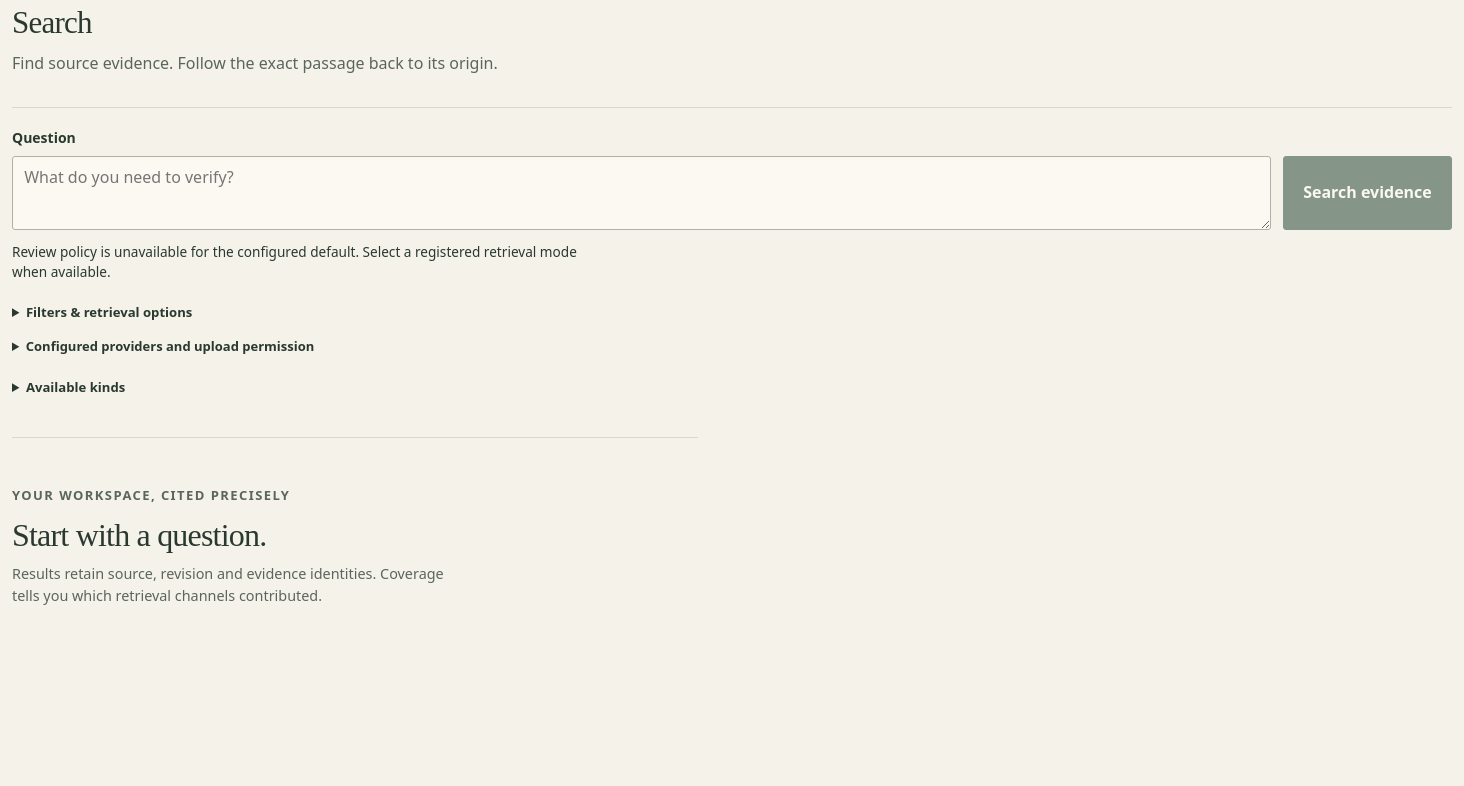
Test: keeps a null window ID null and a structured-only segment selectable
Type "synthetic" into the text box labelled "Question".
click(641, 192); type("synthetic")  # box [12,156,1271,230]
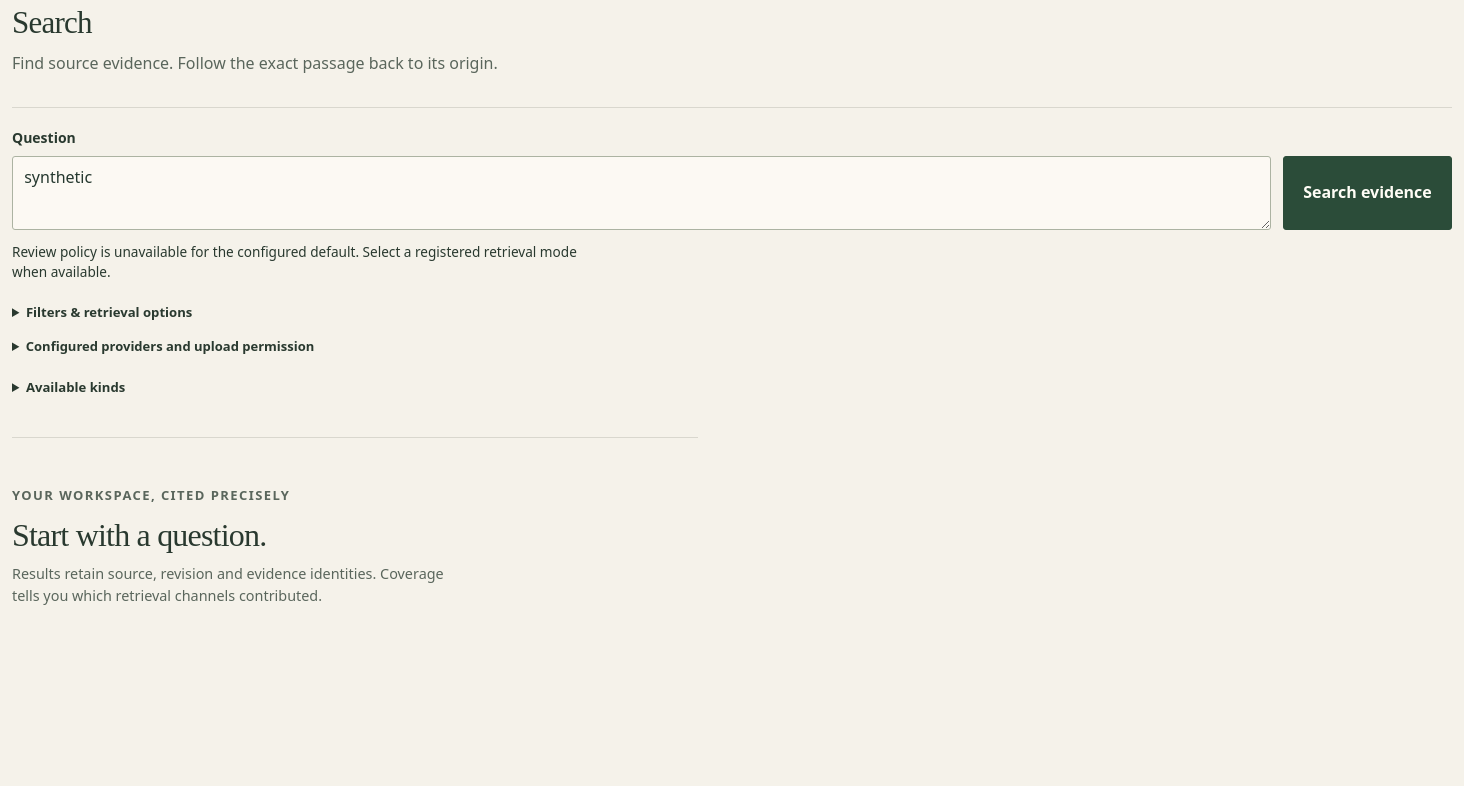
Click the button "Search evidence".
click(1367, 192)  # box [1283,156,1452,230]
(page scrolled)
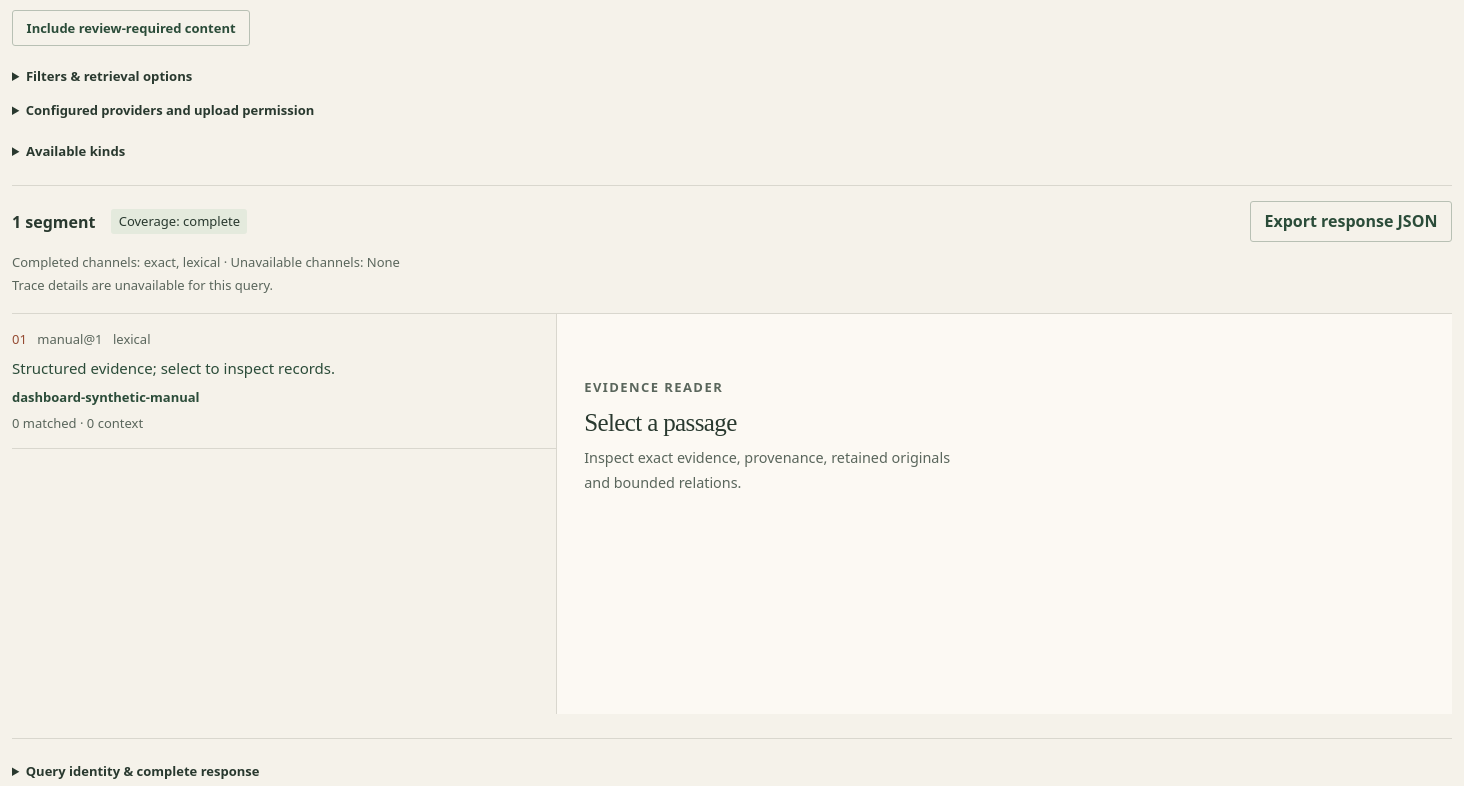
Click the button "Structured evidence".
click(70, 339)  # box [12,314,556,448]
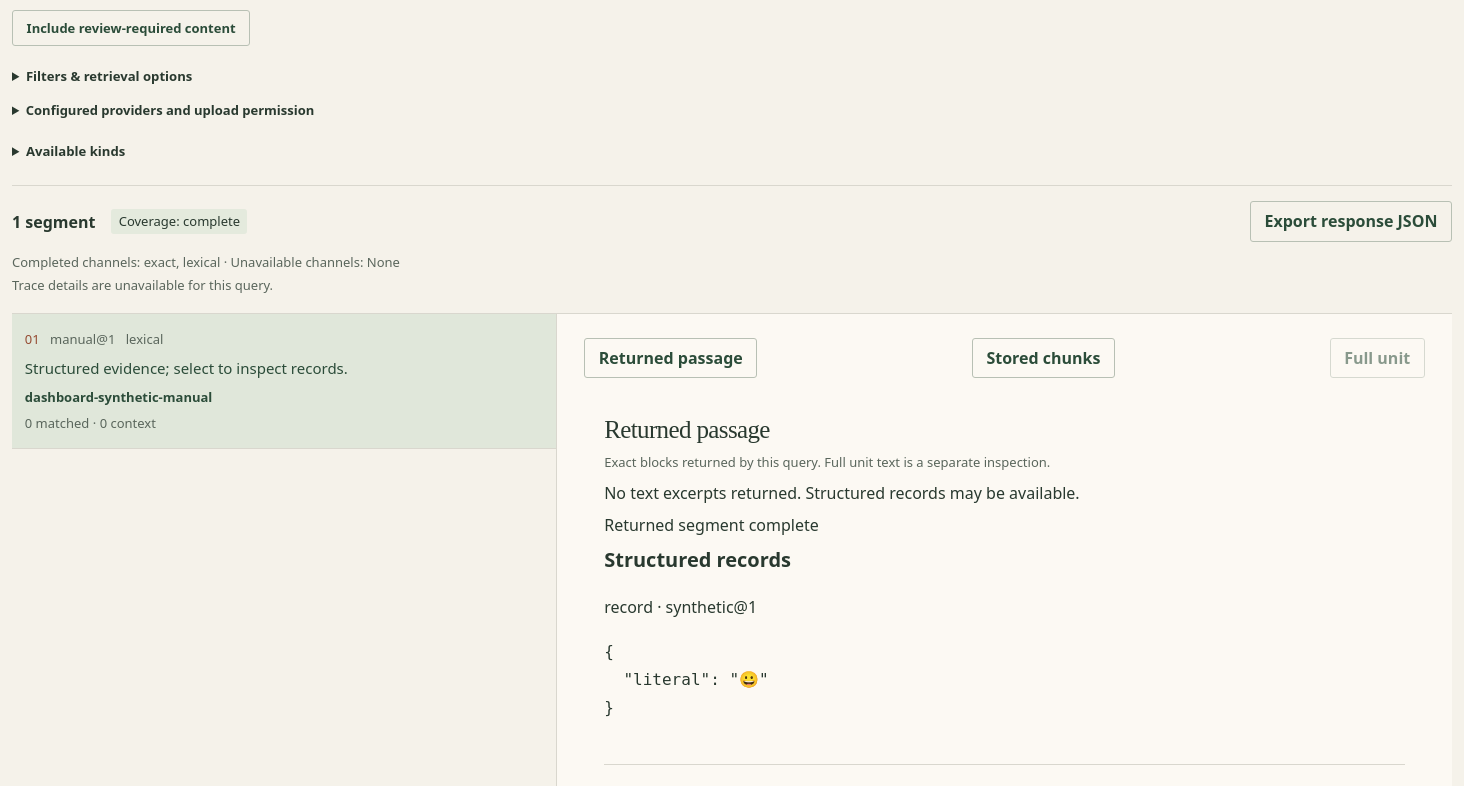
Now the element "Returned passage" shows "Structured records", box [604,546,791,573]
Click the button "Stored chunks".
click(1043, 358)  # box [972,338,1115,378]
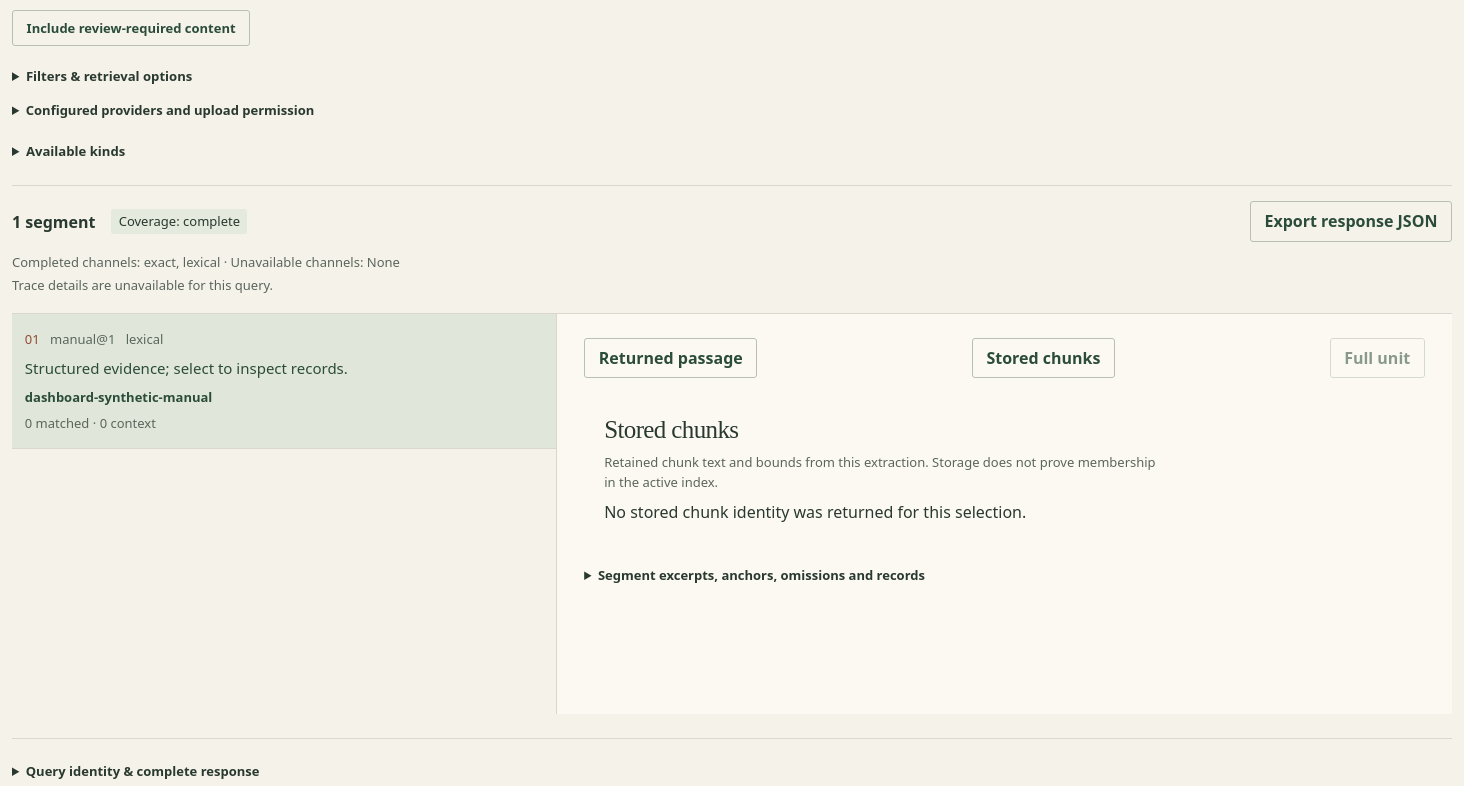
Now the text "No stored chunk identity was returned for this selection." is shown, box [604,501,1026,523]
